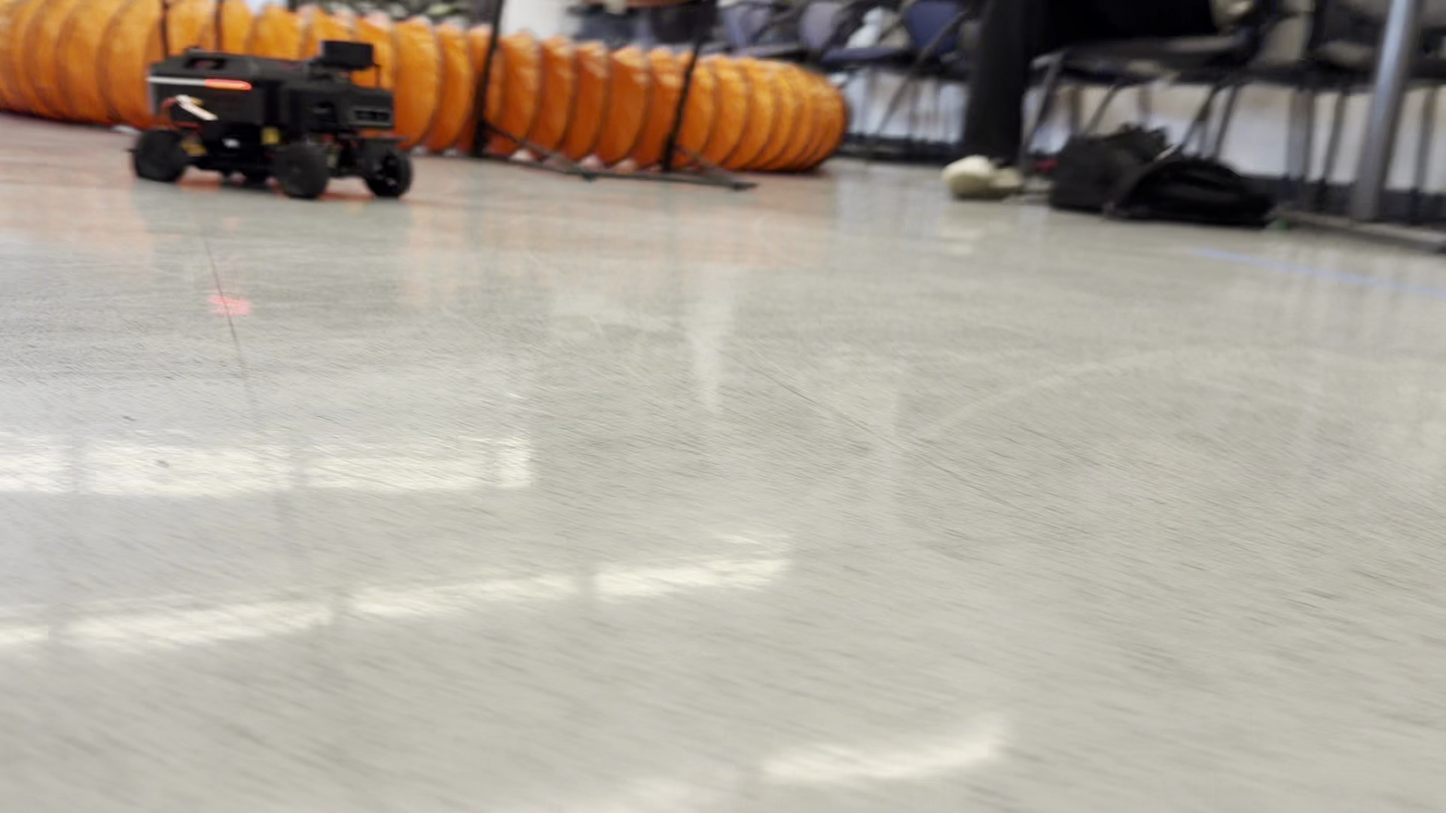racecar: (130, 47, 411, 202)
